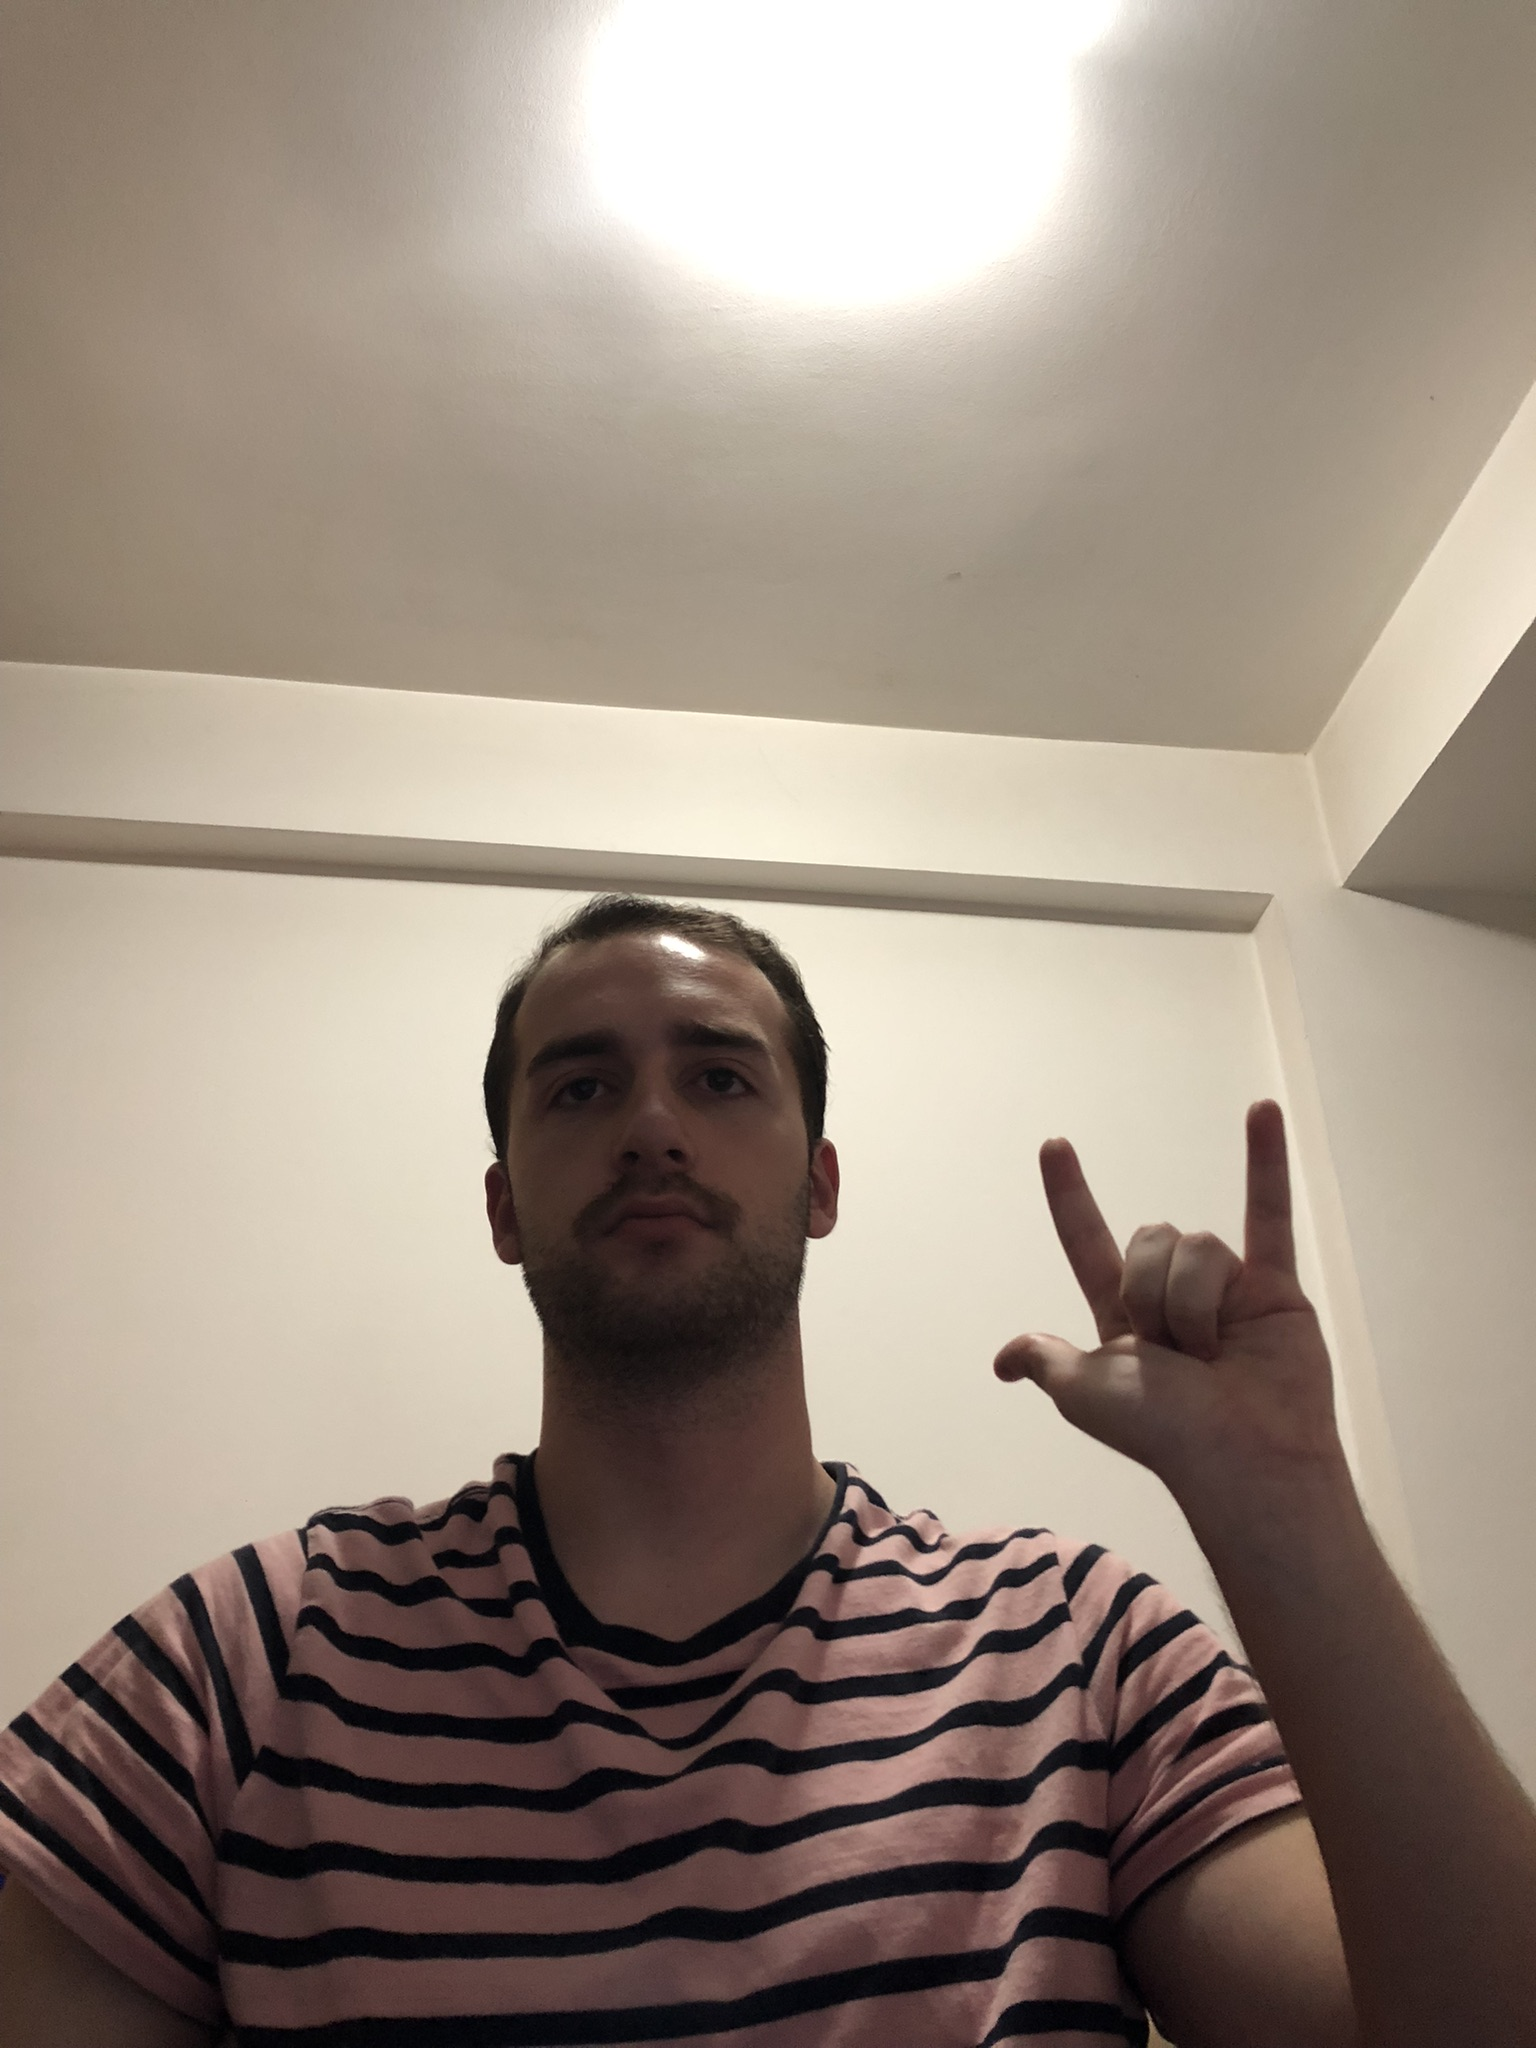I Love You: (983, 1089, 1376, 1508)
